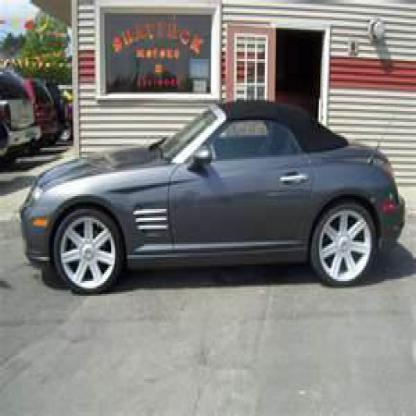Vehicle: (22, 100, 409, 292)
